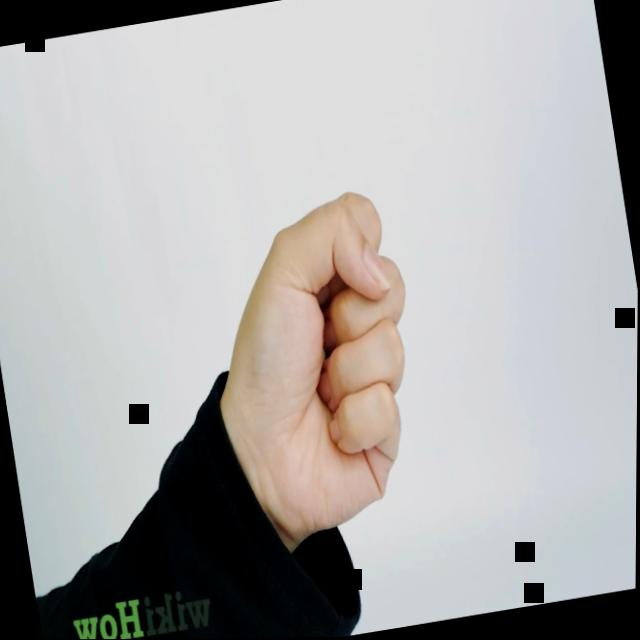Rock: (209, 182, 441, 545)
